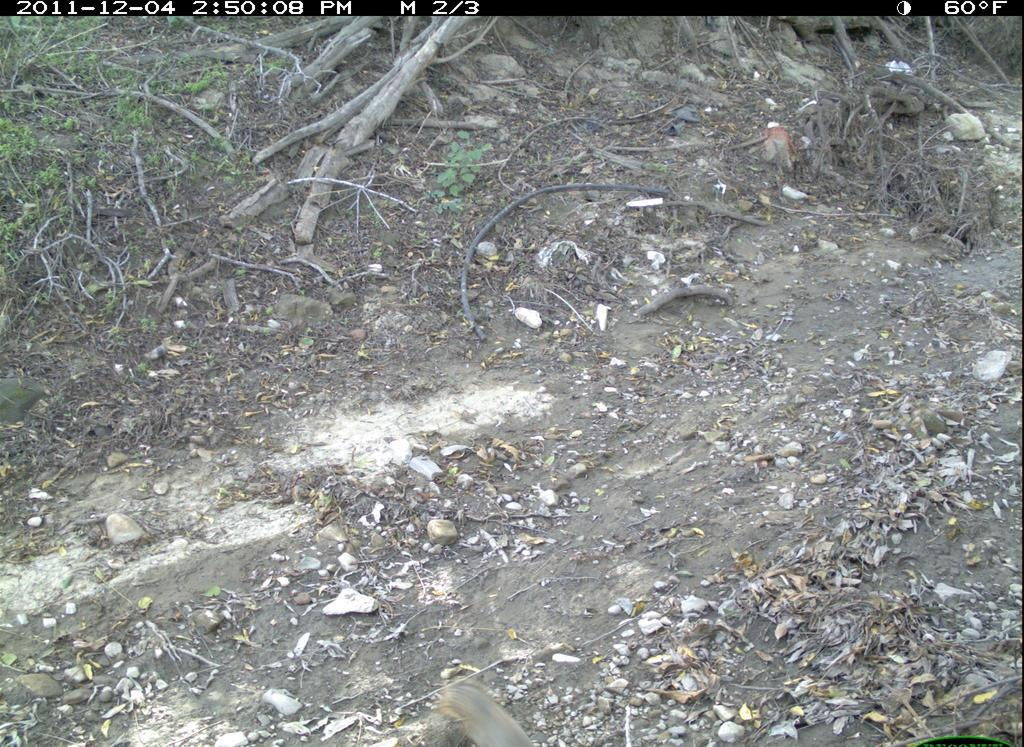squirrel: (436, 678, 542, 747)
